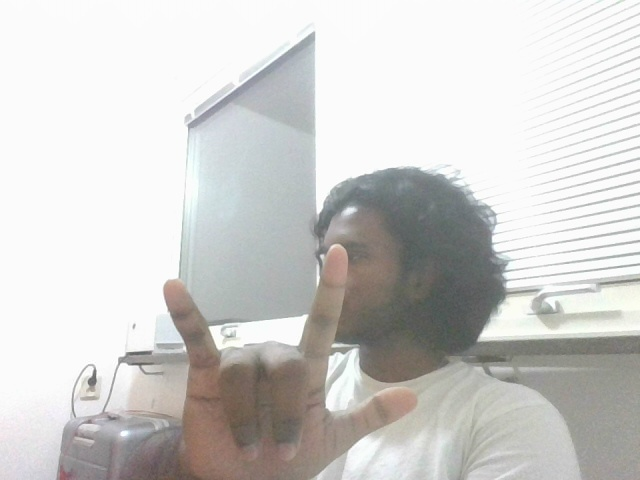I Love You: (156, 243, 428, 480)
